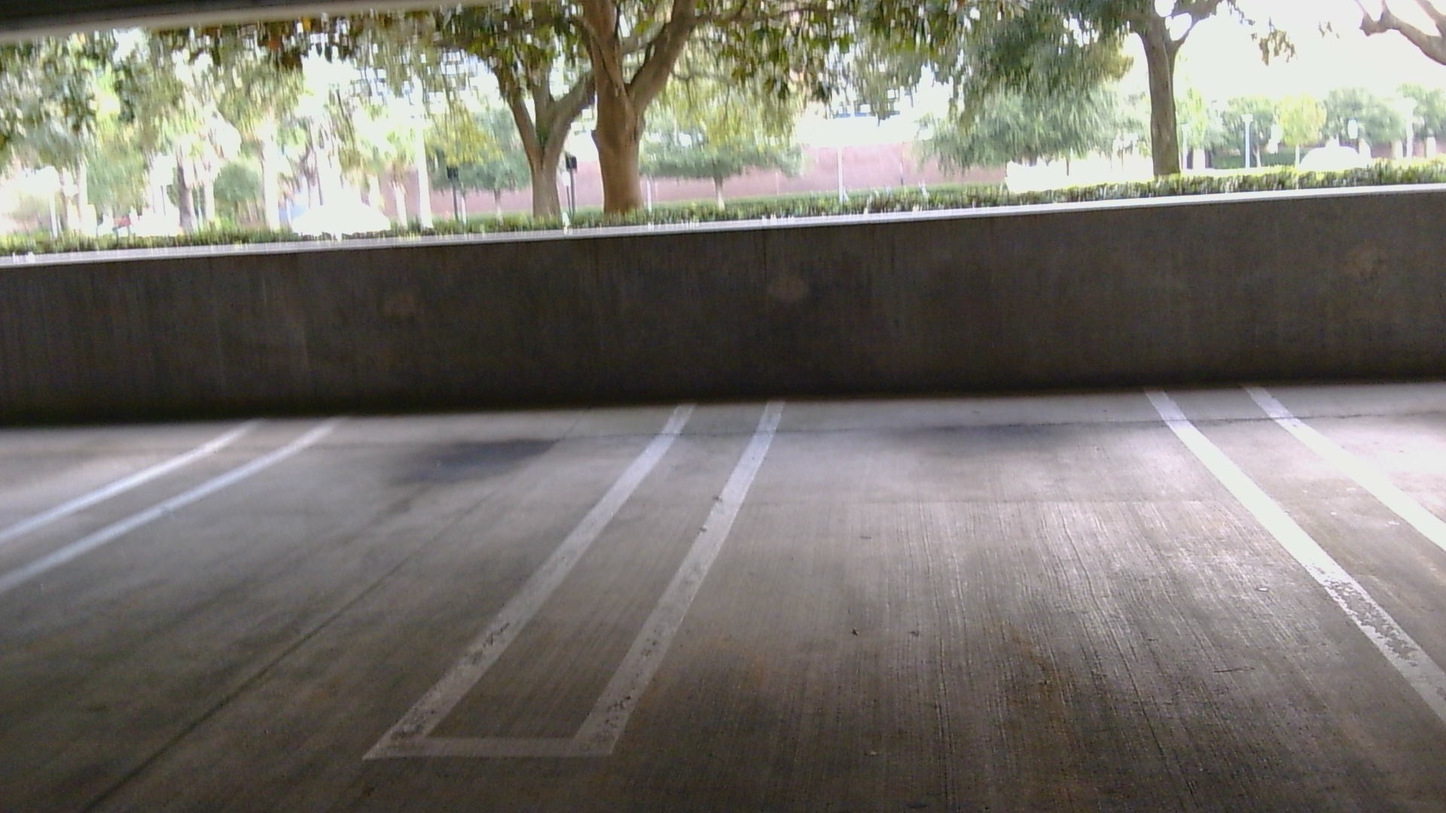empty_spot: (544, 239, 1446, 773), (0, 277, 730, 742)
